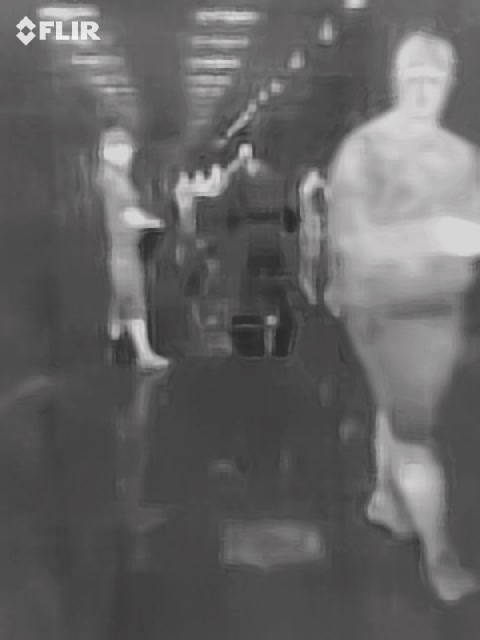head: (390, 29, 458, 120)
